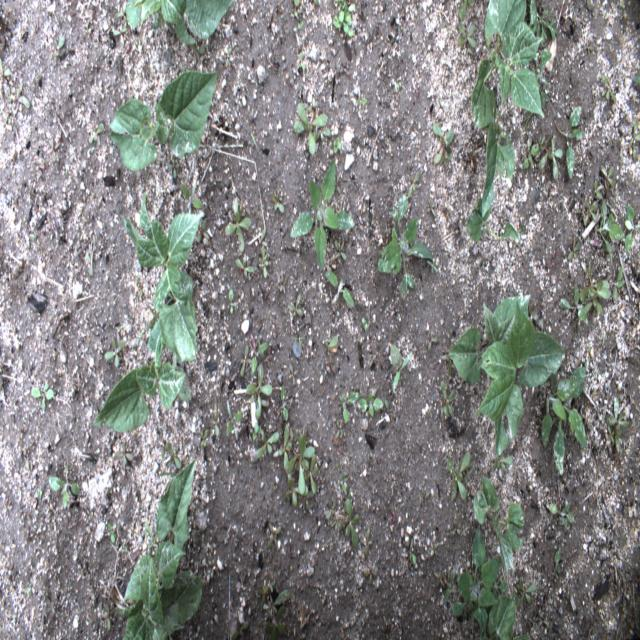crop: (466, 1, 558, 245), (450, 287, 569, 443), (117, 455, 203, 636), (121, 192, 203, 366), (106, 63, 222, 179), (435, 535, 535, 638), (94, 359, 193, 434), (122, 2, 238, 51), (474, 474, 525, 574)
weed: (284, 155, 356, 276), (375, 193, 438, 305), (537, 359, 590, 477), (554, 256, 623, 329), (282, 423, 320, 516), (321, 472, 362, 558), (252, 387, 290, 472), (291, 93, 336, 158), (581, 190, 624, 255), (600, 388, 632, 465), (219, 192, 256, 258), (555, 100, 585, 174), (260, 578, 298, 634), (446, 444, 476, 505), (243, 371, 276, 424), (428, 116, 460, 170), (47, 470, 83, 516), (286, 290, 312, 352), (326, 265, 357, 312), (335, 384, 359, 444), (390, 336, 416, 391), (26, 375, 58, 419), (453, 0, 479, 54), (358, 528, 383, 583), (102, 327, 130, 373), (518, 127, 544, 176), (80, 116, 105, 166), (359, 387, 394, 422), (329, 1, 358, 42), (544, 496, 576, 533), (490, 450, 521, 488), (255, 224, 275, 281), (238, 340, 270, 375), (179, 175, 206, 216), (539, 135, 562, 183), (281, 48, 309, 87), (435, 382, 458, 426), (111, 7, 135, 48), (620, 200, 636, 260), (74, 237, 98, 277), (162, 440, 186, 479), (223, 393, 240, 447), (320, 326, 345, 362), (620, 116, 638, 166), (323, 123, 348, 158), (49, 306, 72, 344), (13, 74, 32, 119), (592, 162, 620, 192), (42, 131, 64, 168), (285, 353, 310, 385), (231, 251, 254, 284), (422, 529, 443, 565), (208, 398, 223, 448), (24, 479, 46, 513), (419, 324, 439, 361), (106, 520, 126, 557), (595, 66, 616, 101), (382, 493, 403, 528), (289, 3, 308, 41), (47, 32, 68, 66), (406, 167, 428, 199), (352, 80, 371, 116), (266, 185, 288, 216), (98, 597, 118, 631), (561, 232, 583, 262), (222, 287, 245, 315), (422, 190, 442, 222), (219, 40, 239, 69), (111, 449, 139, 469), (404, 534, 421, 566), (391, 70, 407, 102), (197, 417, 212, 451), (414, 485, 435, 509), (520, 581, 540, 606), (0, 53, 12, 94), (332, 239, 349, 267), (550, 542, 564, 576), (268, 520, 282, 554), (447, 513, 463, 542), (278, 264, 290, 300), (360, 309, 374, 337), (17, 582, 36, 600), (630, 64, 638, 96)
